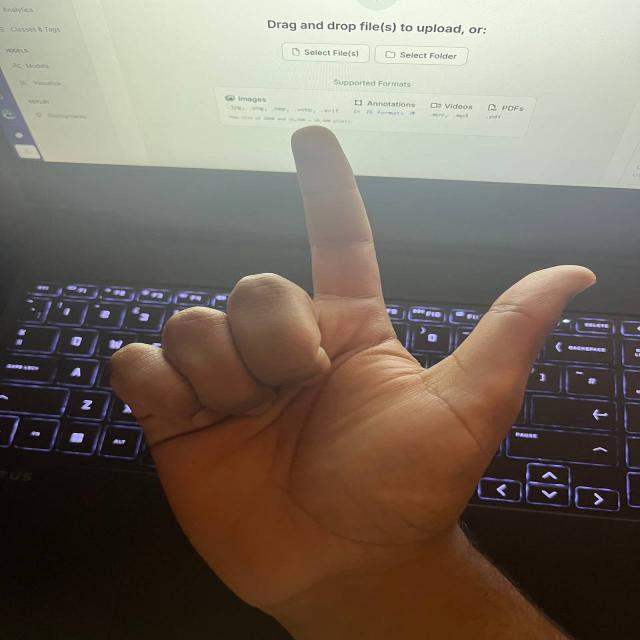hand thumb and index out: (97, 124, 591, 576)
